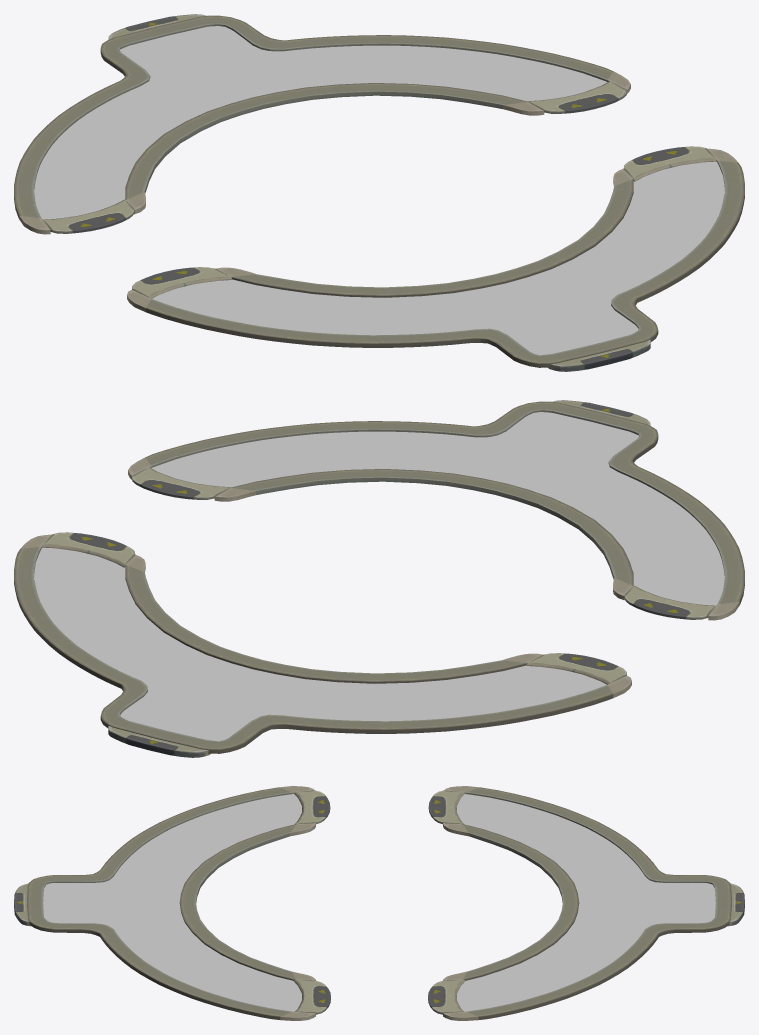
The model's file is pref_sm_garden_line06_lv2.fbx.
3 renders of one model, top to bottom at view 1: azimuth 30°, elevation 25°; view 2: azimuth 150°, elevation 25°; view 3: azimuth 270°, elevation 25°, orthographic. The views are drawn at different scales.
Visible parts, largest first — view 1: sm_garden_line06a_lv2, sm_garden_line06_lv2; view 2: sm_garden_line06a_lv2, sm_garden_line06_lv2; view 3: sm_garden_line06a_lv2, sm_garden_line06_lv2.
Part boxes in pixels (x1,y1,x2,y2): sm_garden_line06a_lv2: [34, 26, 724, 355]; sm_garden_line06_lv2: [14, 14, 744, 371]; sm_garden_line06a_lv2: [34, 412, 724, 741]; sm_garden_line06_lv2: [14, 400, 744, 757]; sm_garden_line06a_lv2: [43, 794, 715, 1011]; sm_garden_line06_lv2: [14, 786, 744, 1020].
Bounding box in the file's own units: 18.61 × 0.1908 × 24.81.
